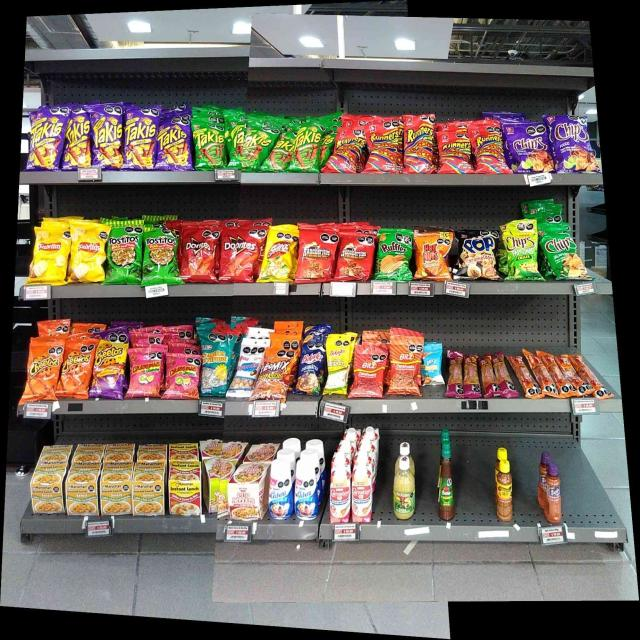bitzAlmendras: (422, 346, 442, 384)
bitzEnchilado90: (352, 345, 384, 396), (388, 345, 420, 395)
bitzEnchilado95: (514, 350, 604, 398)
bitzHabanero: (446, 352, 463, 397), (465, 356, 480, 398), (497, 354, 511, 397), (482, 356, 494, 396)
bokadosCacahuates: (296, 345, 323, 394)
botaneraChilito: (496, 462, 513, 521)
cheetosFlaminHot: (94, 334, 124, 399)
cheetosOriginal: (28, 338, 62, 401), (63, 341, 91, 398)
chipsFuego: (554, 117, 592, 173), (508, 123, 551, 172)
chipsJalapeno: (540, 228, 583, 280)
chipsPapatinas: (502, 224, 538, 281)
churrumais: (126, 349, 163, 397), (166, 354, 199, 398)
delPrimoSalsa: (391, 458, 415, 520)
doritosNacho: (222, 228, 262, 282), (182, 228, 218, 282)
fritosLimon: (265, 227, 296, 282)
hotNutsOriginal: (414, 232, 452, 281)
leoCacahuates: (231, 339, 255, 397)
leoMix: (257, 350, 294, 401)
maruchanPollo: (32, 460, 64, 514), (134, 462, 166, 515), (67, 463, 98, 514), (101, 462, 131, 514)
maruchanRes: (170, 462, 202, 515)
nestleCarnation: (352, 466, 372, 522), (331, 469, 350, 524)
nestleLechera: (270, 462, 293, 518), (296, 461, 318, 518)
nissinCamaron: (204, 460, 229, 514)
nissinRes: (230, 464, 266, 520)
popKarameladas: (454, 231, 500, 281)
rancheritos: (298, 229, 336, 282), (338, 233, 373, 282)
rufflesQueso: (377, 230, 412, 280)
runners: (406, 114, 438, 173), (365, 126, 403, 175), (325, 129, 363, 173), (473, 122, 505, 173), (440, 131, 470, 175)
sabritasOriginal: (70, 222, 105, 286), (34, 229, 68, 284)
salsaBufalo: (438, 443, 454, 520)
semillasCalabaza: (326, 336, 349, 394)
semillasGirasol: (202, 326, 229, 396)
tajinDulce: (544, 464, 562, 523)
takisFuego: (28, 111, 65, 170), (125, 106, 157, 170), (94, 105, 122, 169), (158, 119, 192, 170), (67, 110, 91, 168)
takisOriginal: (228, 124, 270, 172), (194, 120, 226, 169), (297, 124, 323, 172), (273, 132, 295, 173)
tostitos: (106, 223, 140, 286), (144, 229, 177, 283)
